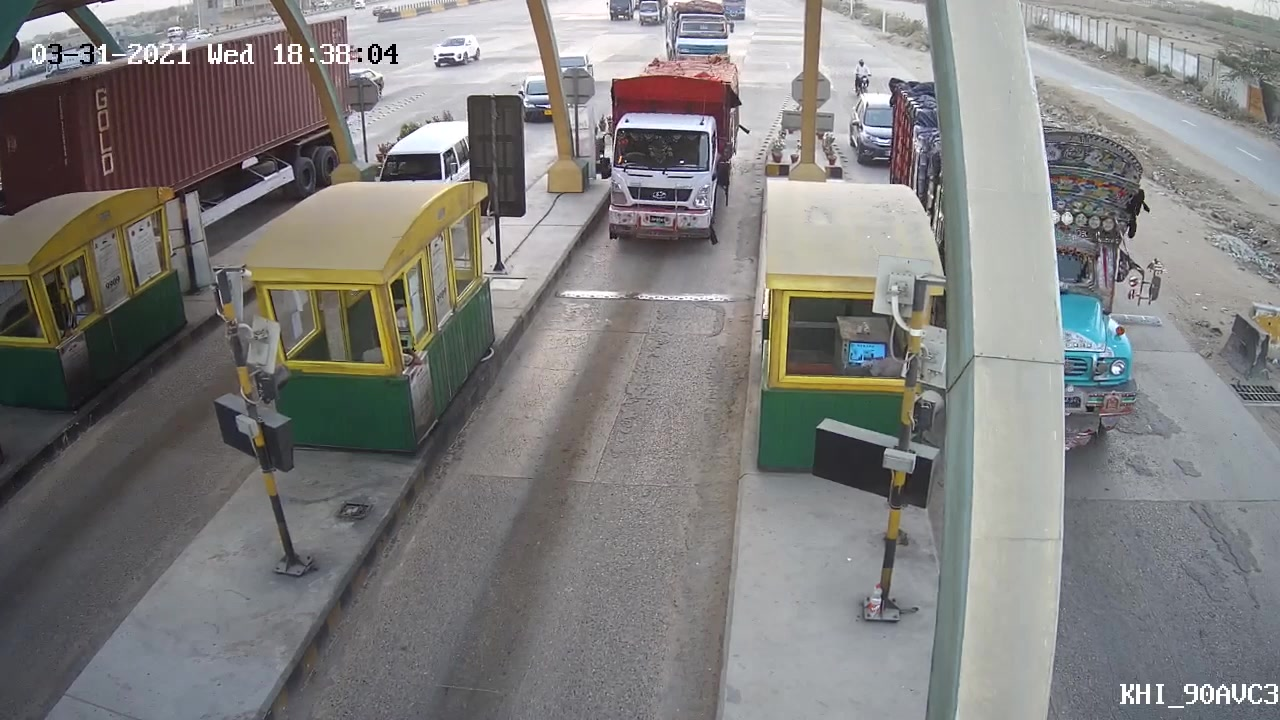F5: (583, 61, 750, 254)
